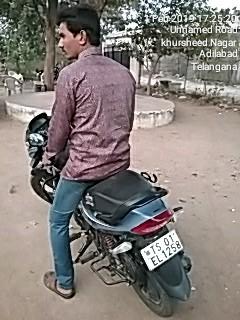plate: (134, 230, 188, 270)
